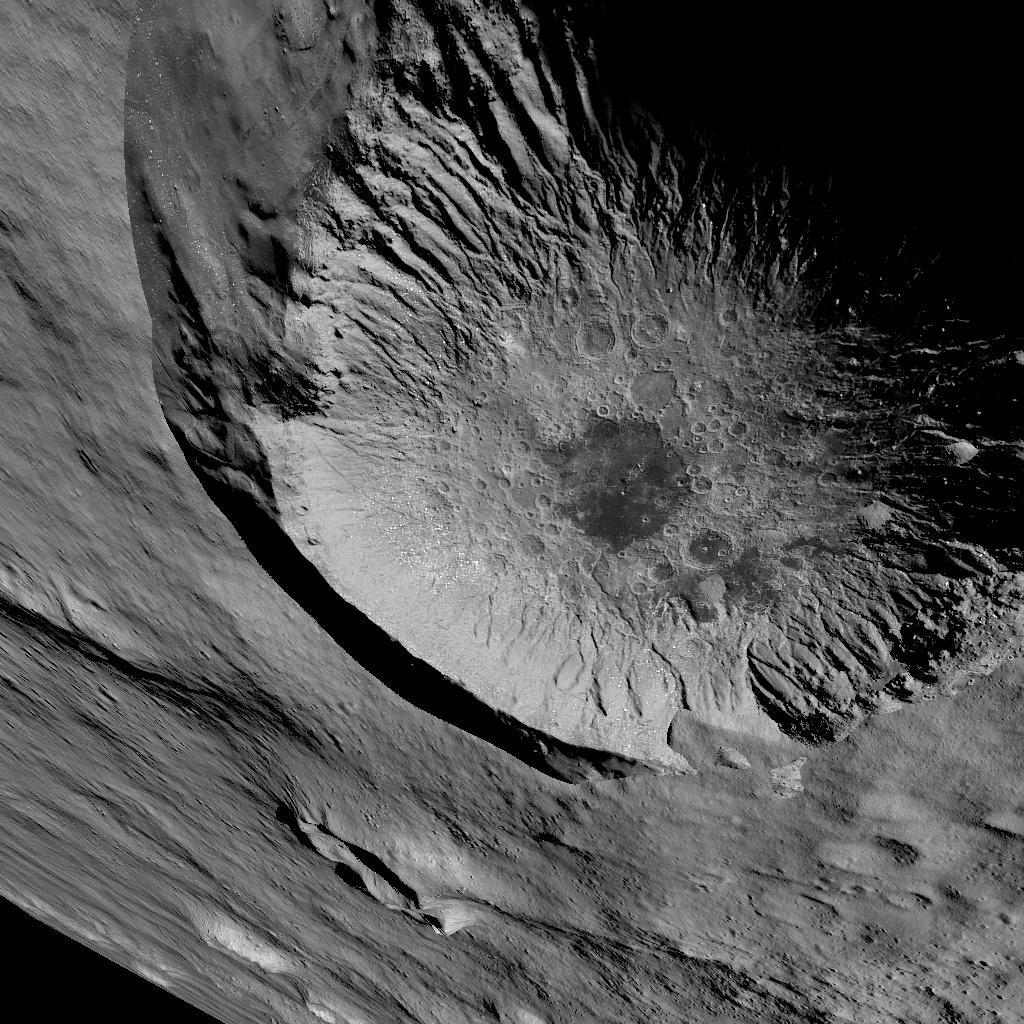Crater: (105, 0, 1024, 791), (272, 805, 444, 946)
Plan surface: (480, 816, 1019, 1022)
